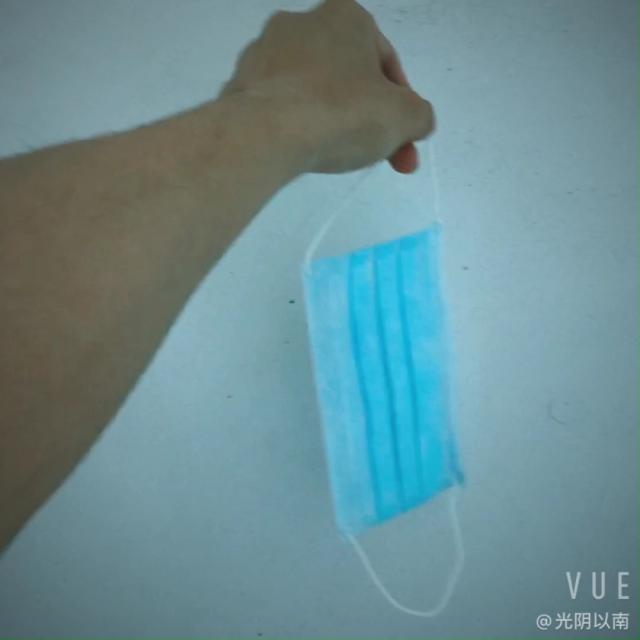face mask: (291, 236, 473, 542)
